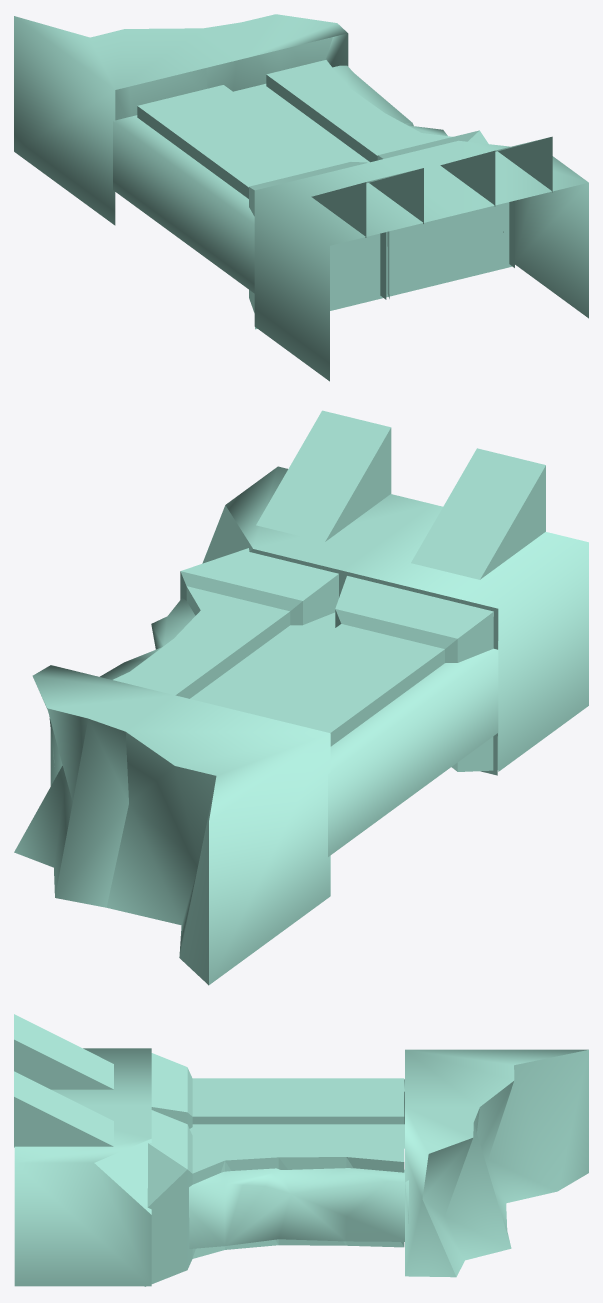
3 renders of one model, top to bottom at view 1: azimuth 30°, elevation 25°; view 2: azimuth 150°, elevation 25°; view 3: azimuth 270°, elevation 25°, orthographic. The views are drawn at different scales.
Parts seen in each view (by area): view 1: Object66; view 2: Object66; view 3: Object66.
Part boxes in pixels (box(x1,y1,x2,y2)): Object66: box(14, 14, 588, 381); Object66: box(14, 410, 588, 985); Object66: box(14, 1014, 588, 1286).
Size of the model in its own units: 13605 by 9757 by 28818.
